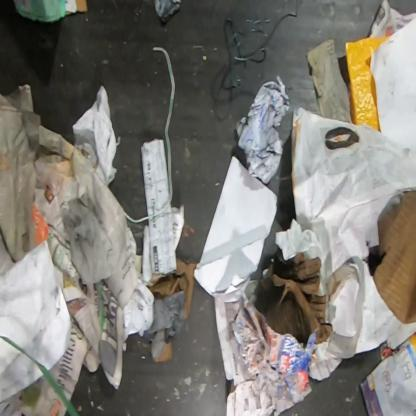cardboard: (254, 248, 333, 347), (373, 191, 415, 326), (14, 0, 87, 22)
